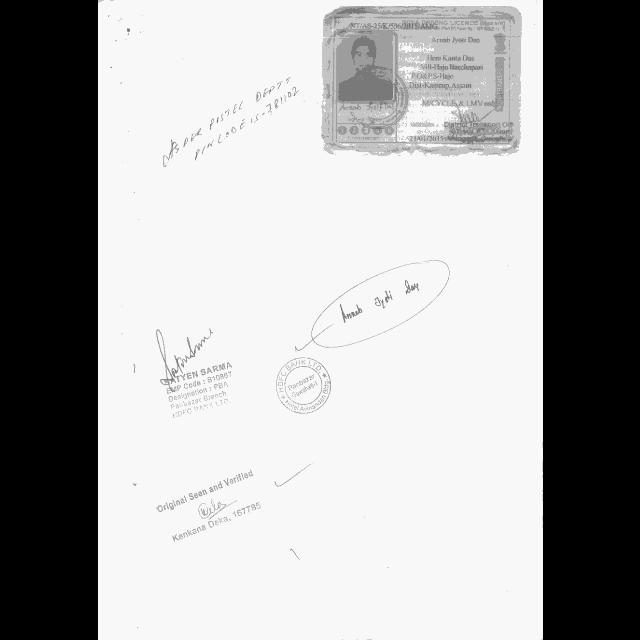driving_licence: (316, 2, 524, 158)
